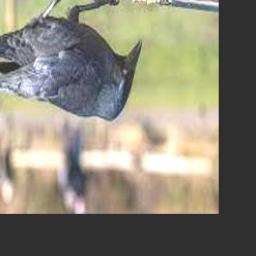Crow: (0, 0, 142, 122)
